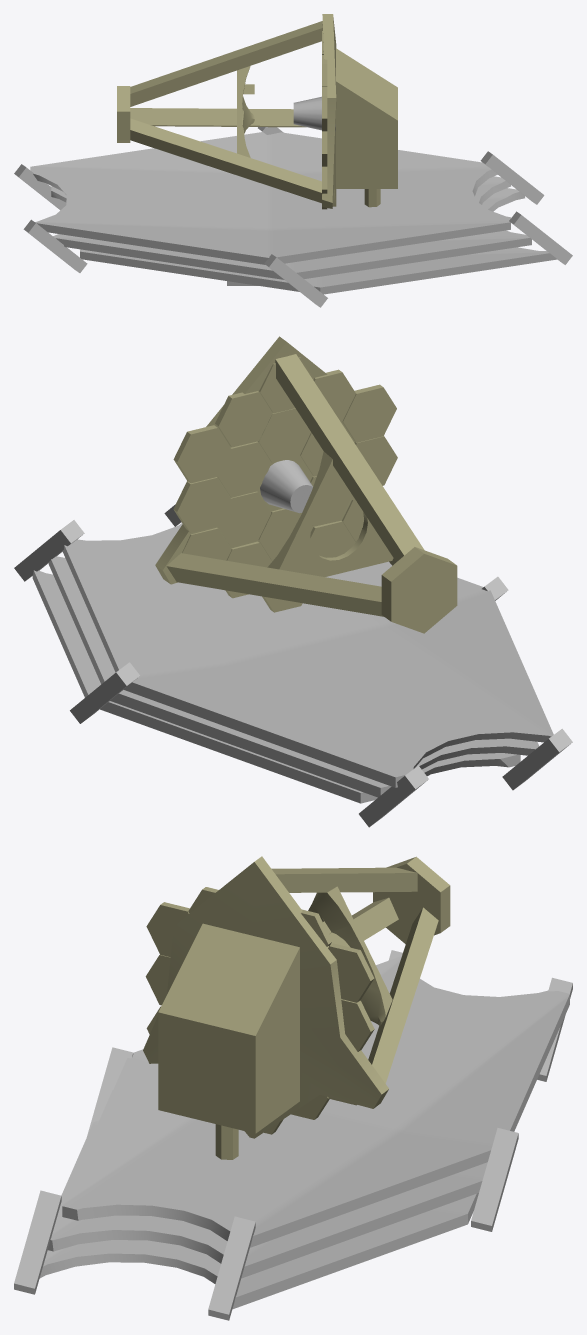
File: james_webb.glb
3 renders of one model, top to bottom at view 1: azimuth 30°, elevation 25°; view 2: azimuth 150°, elevation 25°; view 3: azimuth 270°, elevation 25°, orthographic. The views are drawn at different scales.
Parts seen in each view (by area): view 1: pasted__pCone1; view 2: pasted__pCone1; view 3: pasted__pCone1.
Part boxes in pixels (x1=…): pasted__pCone1: x1=14, y1=14, x2=572, y2=307; pasted__pCone1: x1=14, y1=336, x2=572, y2=827; pasted__pCone1: x1=14, y1=856, x2=572, y2=1320.
Bounding box in the file's own units: 0.1671 × 0.0904 × 0.1242.
